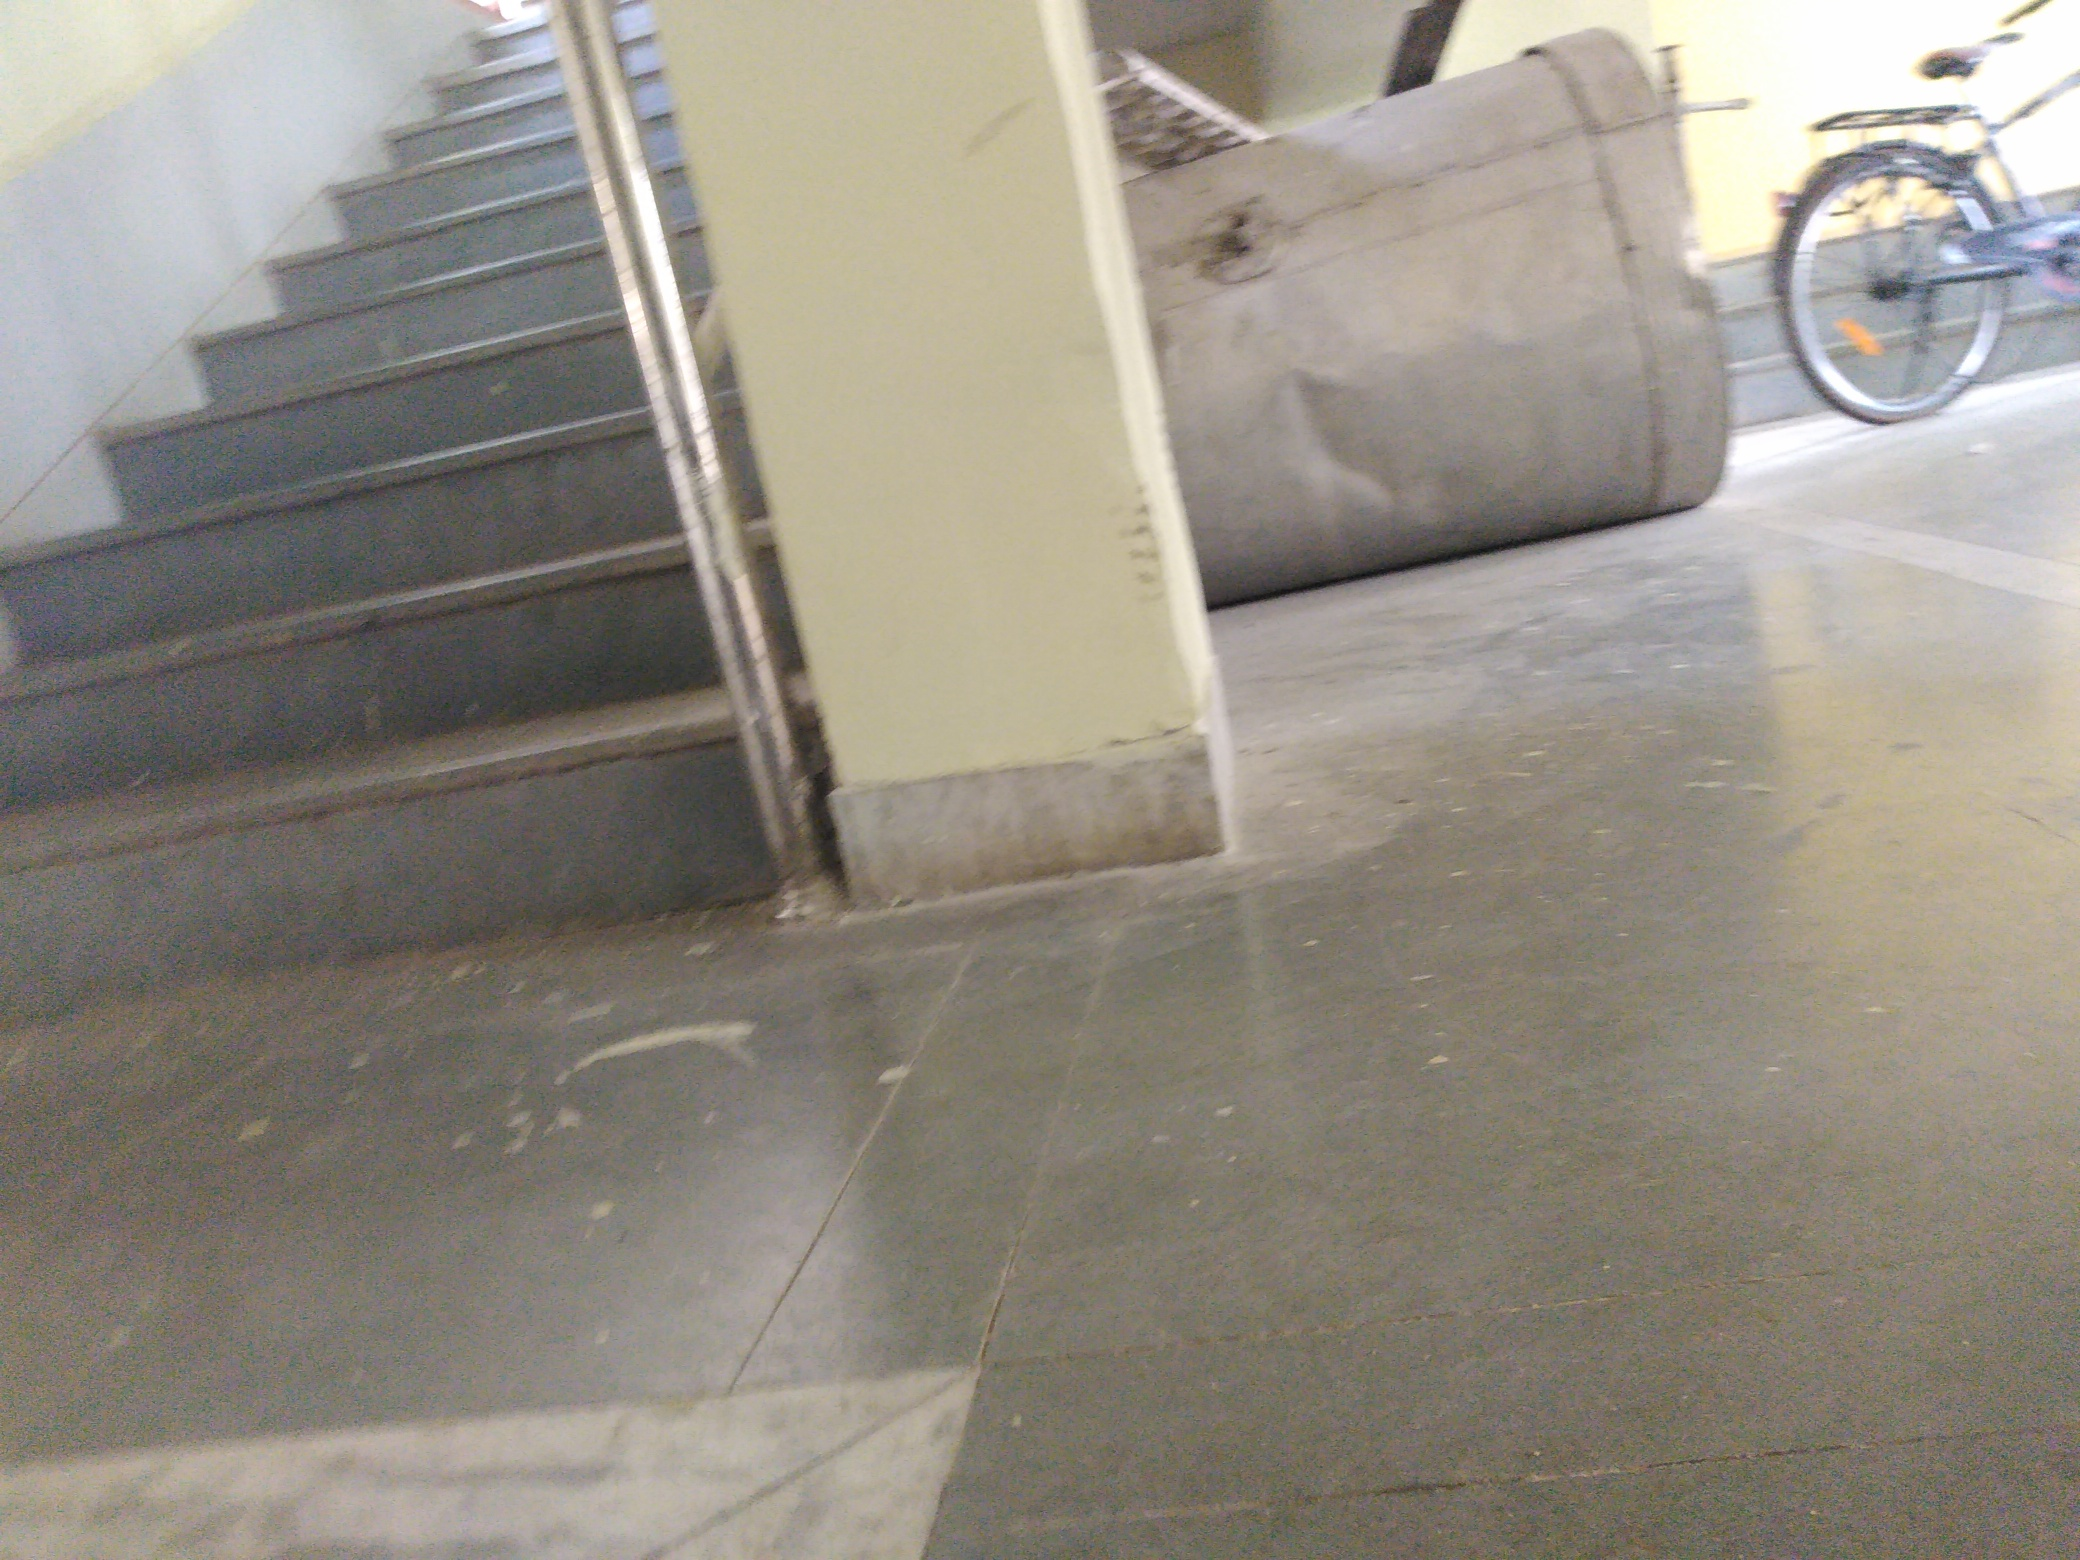stairs_up: (2, 16, 671, 986)
